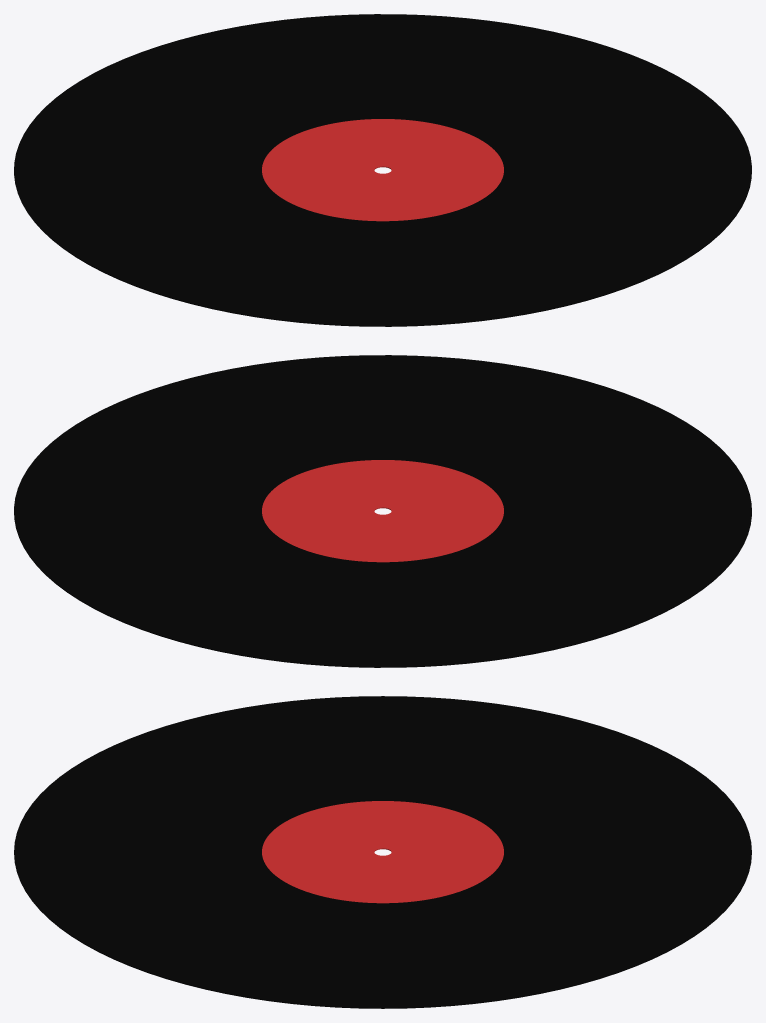
Rendered from vinil.glb.
3 views of the same model, one above another, from view 1: azimuth 30°, elevation 25°; view 2: azimuth 150°, elevation 25°; view 3: azimuth 270°, elevation 25° (orthographic).
Visible parts, largest first — view 1: Outer, Inner; view 2: Outer, Inner; view 3: Outer, Inner.
Part boxes in pixels (x1,y1,x2,y2): Outer: (14, 14, 751, 326); Inner: (262, 119, 503, 221); Outer: (14, 355, 751, 667); Inner: (262, 460, 503, 562); Outer: (14, 696, 751, 1008); Inner: (262, 801, 503, 903).
Bounding box in the file's own units: 60.96 × 0.075 × 60.96.
